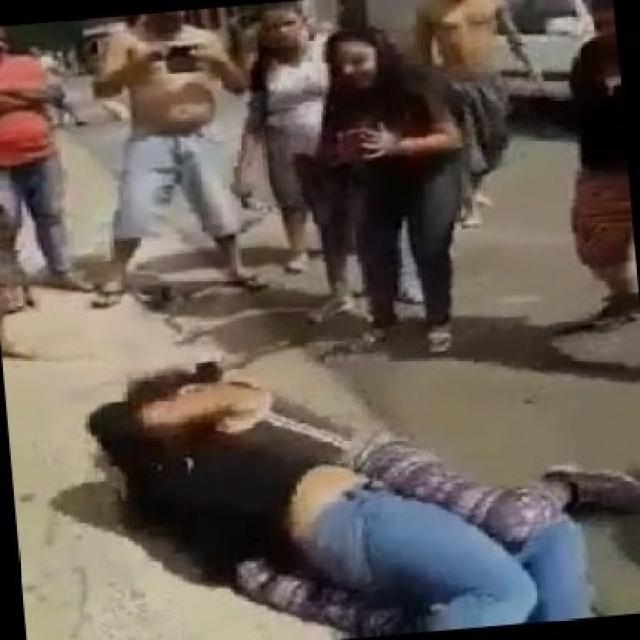fight: (87, 356, 640, 632)
non-fight: (90, 14, 266, 303), (0, 28, 100, 316), (417, 2, 521, 222), (35, 49, 82, 126)
